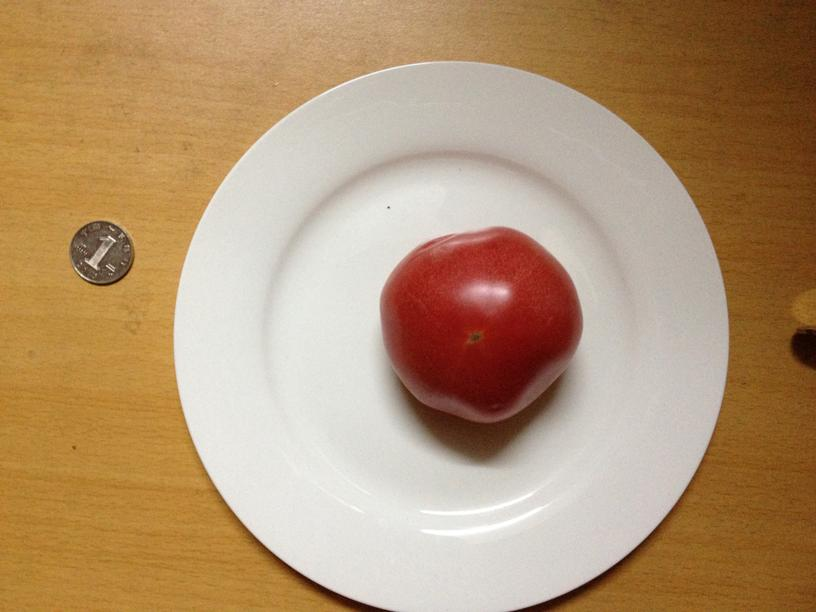coin: (64, 218, 133, 284)
tomato: (378, 230, 584, 426)
